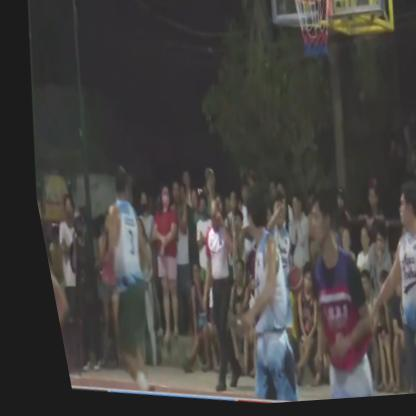basketball: (270, 265, 297, 298)
rim: (285, 0, 344, 72)
